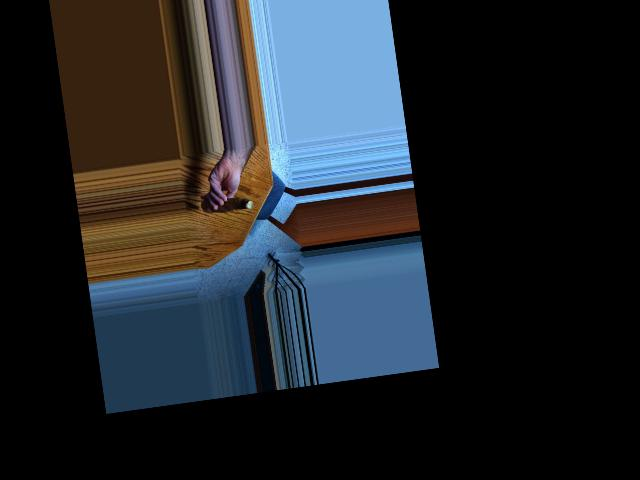sweet_potato: (209, 196, 254, 213)
